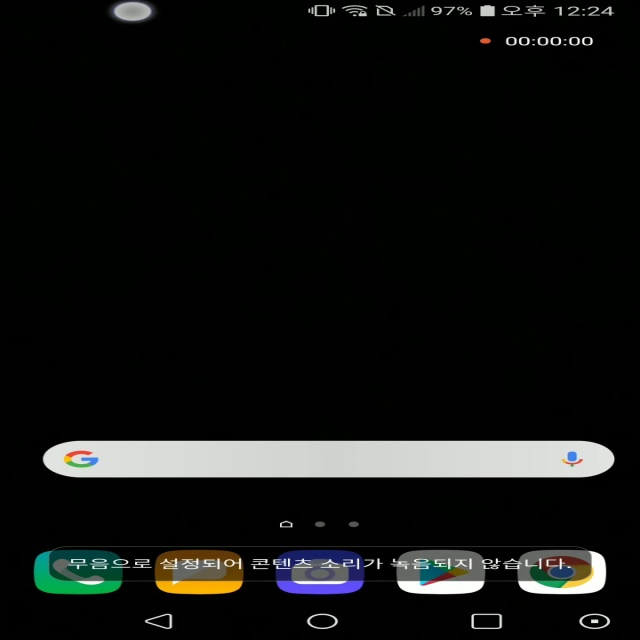Cursor: (112, 1, 156, 23)
